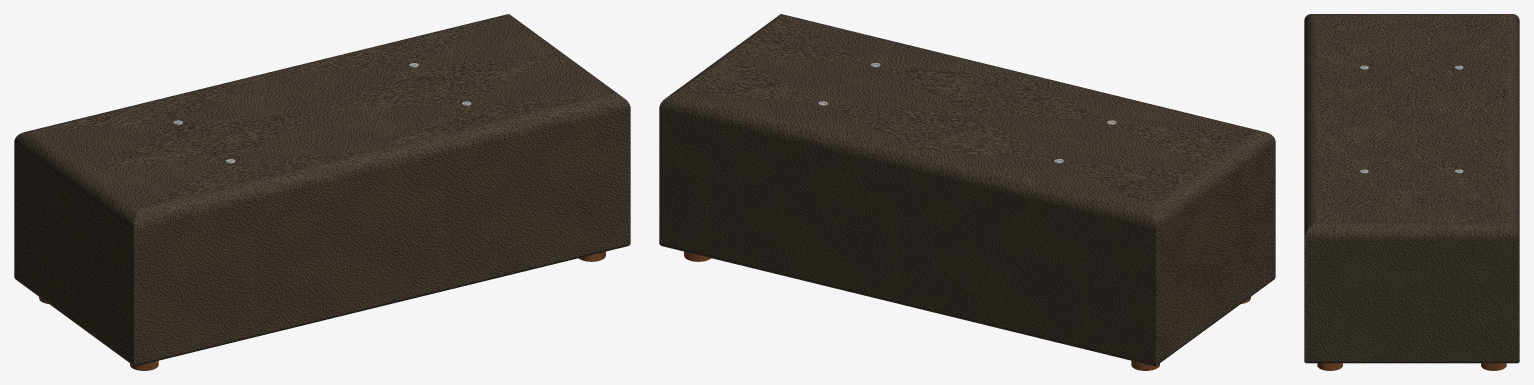
The model's file is 沙發長椅.obj.
3 renders of one model, left to right at view 1: azimuth 30°, elevation 25°; view 2: azimuth 150°, elevation 25°; view 3: azimuth 270°, elevation 25°, orthographic. The views are drawn at different scales.
Visible parts, largest first — view 1: SketchUp; view 2: SketchUp; view 3: SketchUp.
Boxes of the visible parts, left/top/right/bottom form: SketchUp: left=14, top=14, right=630, bottom=366; SketchUp: left=659, top=14, right=1275, bottom=366; SketchUp: left=1304, top=14, right=1519, bottom=363.
Size of the model in its own units: 1.2 by 0.38 by 0.5.
3 materials, 3 textured.
